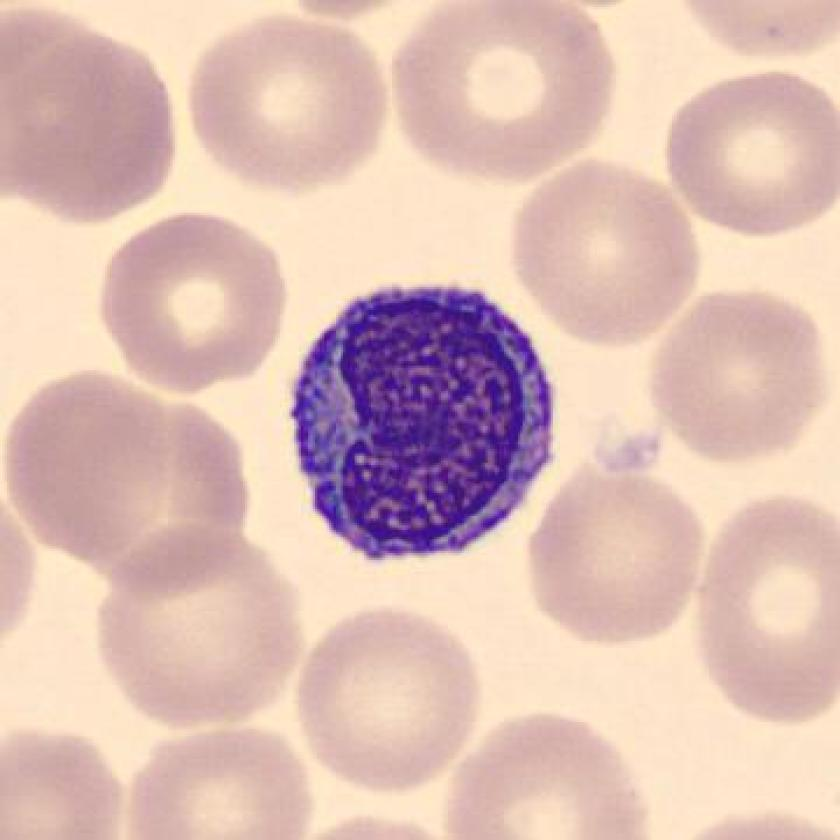monocyte: (276, 263, 575, 587)
